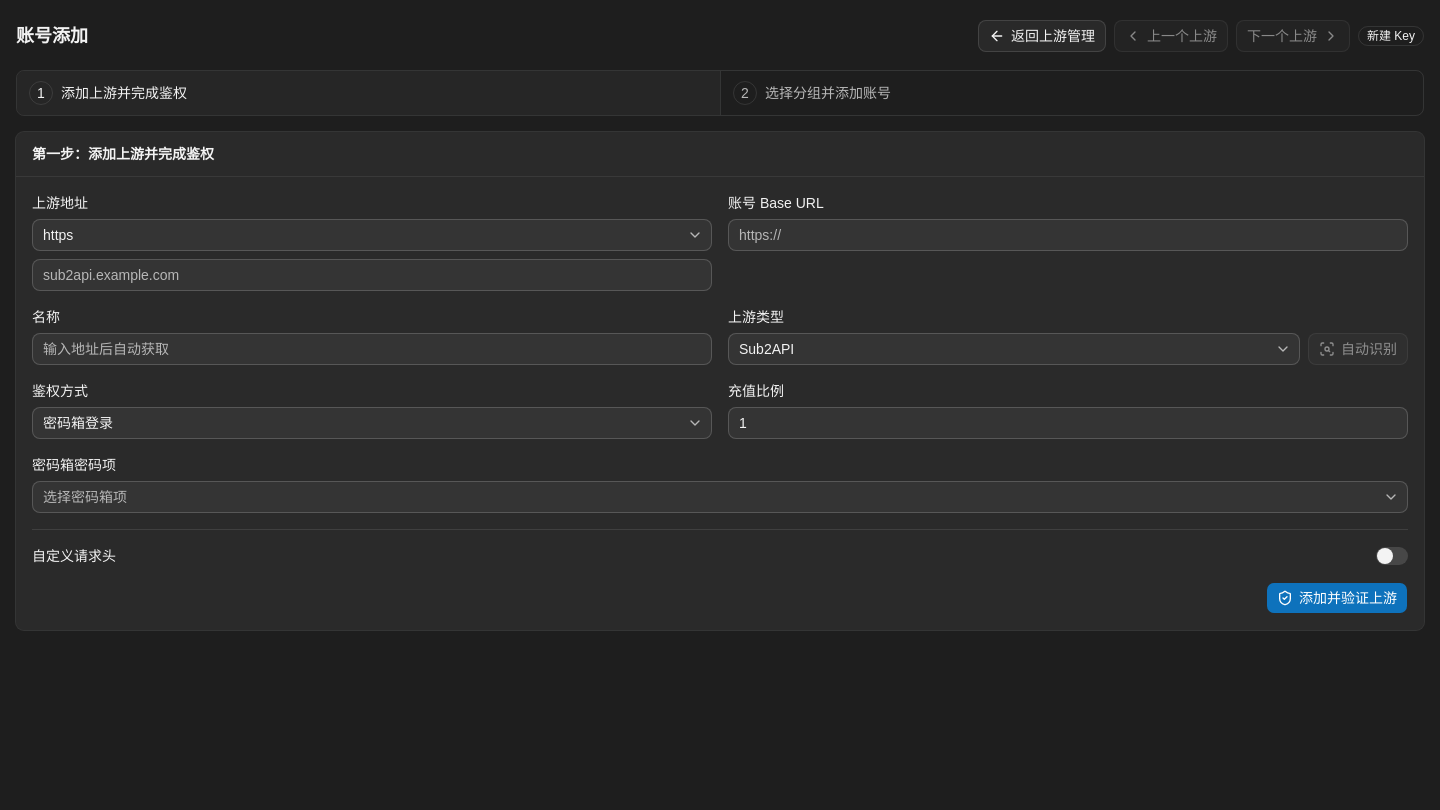
已有分组的后台刷新失败时保留开户表单和已输入名称
This screenshot has width=1440, height=810.
Type "待添加上游" into the field labelled "名称" at (372, 349), box x1=32 y1=333 x2=712 y2=365
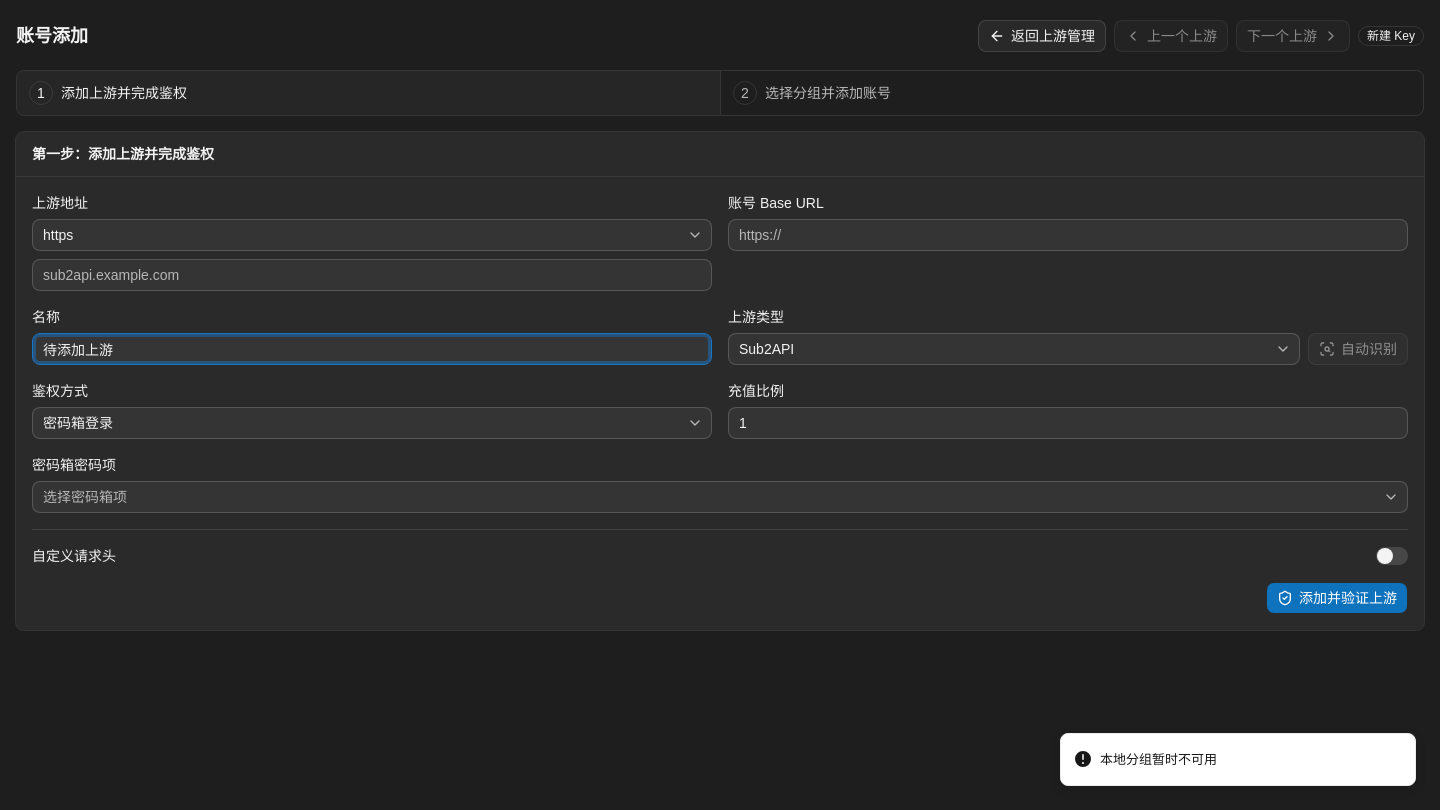
Expected: the field labelled "上游地址" is enabled, x1=32 y1=259 x2=712 y2=291
Expected: the text "本地分组暂时不可用" is shown, x1=1100 y1=750 x2=1217 y2=769
